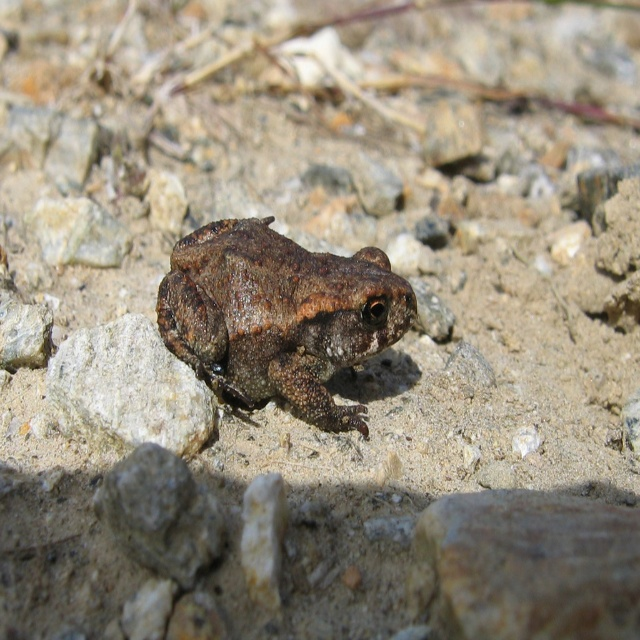Frog: (146, 212, 417, 435)
